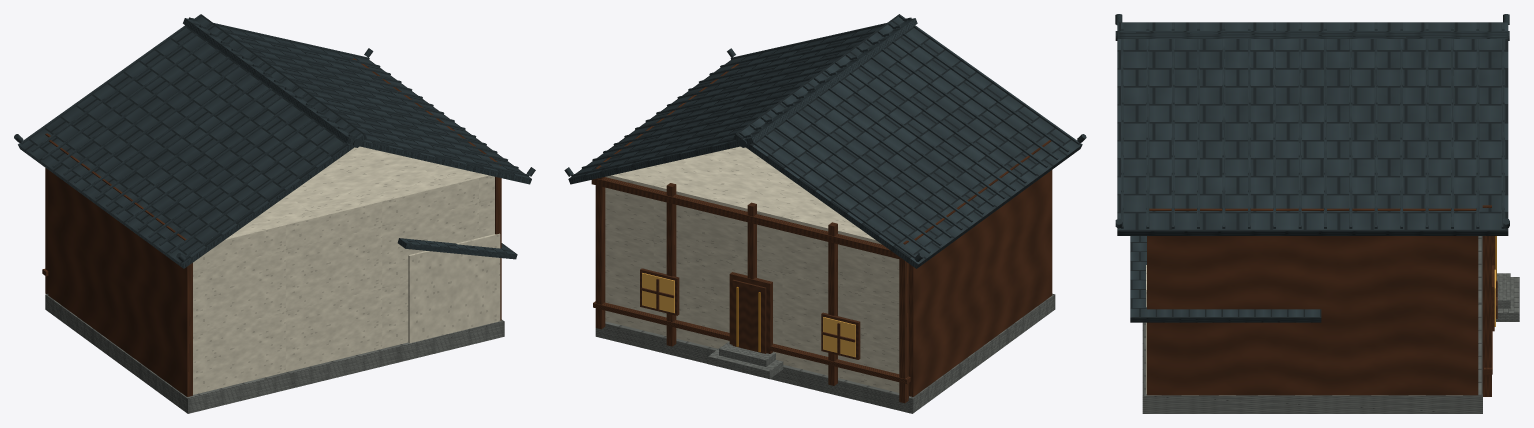
The model's file is house_large_v5.obj.
3 renders of one model, left to right at view 1: azimuth 30°, elevation 25°; view 2: azimuth 150°, elevation 25°; view 3: azimuth 270°, elevation 25°, orthographic. The views are drawn at different scales.
Parts seen in each view (by area): view 1: house_large_v5; view 2: house_large_v5; view 3: house_large_v5.
Boxes of the visible parts, <box> form: house_large_v5: <box>14,14,535,413</box>; house_large_v5: <box>564,14,1086,413</box>; house_large_v5: <box>1115,14,1519,413</box>.
Size of the model in its own units: 13.64 by 9.02 by 11.16.
Materials: 10 (8 with a texture image).
